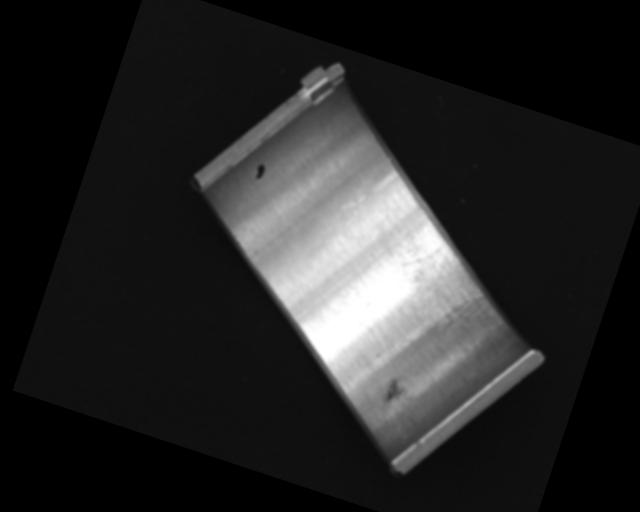blot: (253, 161, 268, 182)
bruise: (382, 373, 407, 406)
nick: (335, 158, 400, 237)
scratch: (368, 217, 523, 350)
